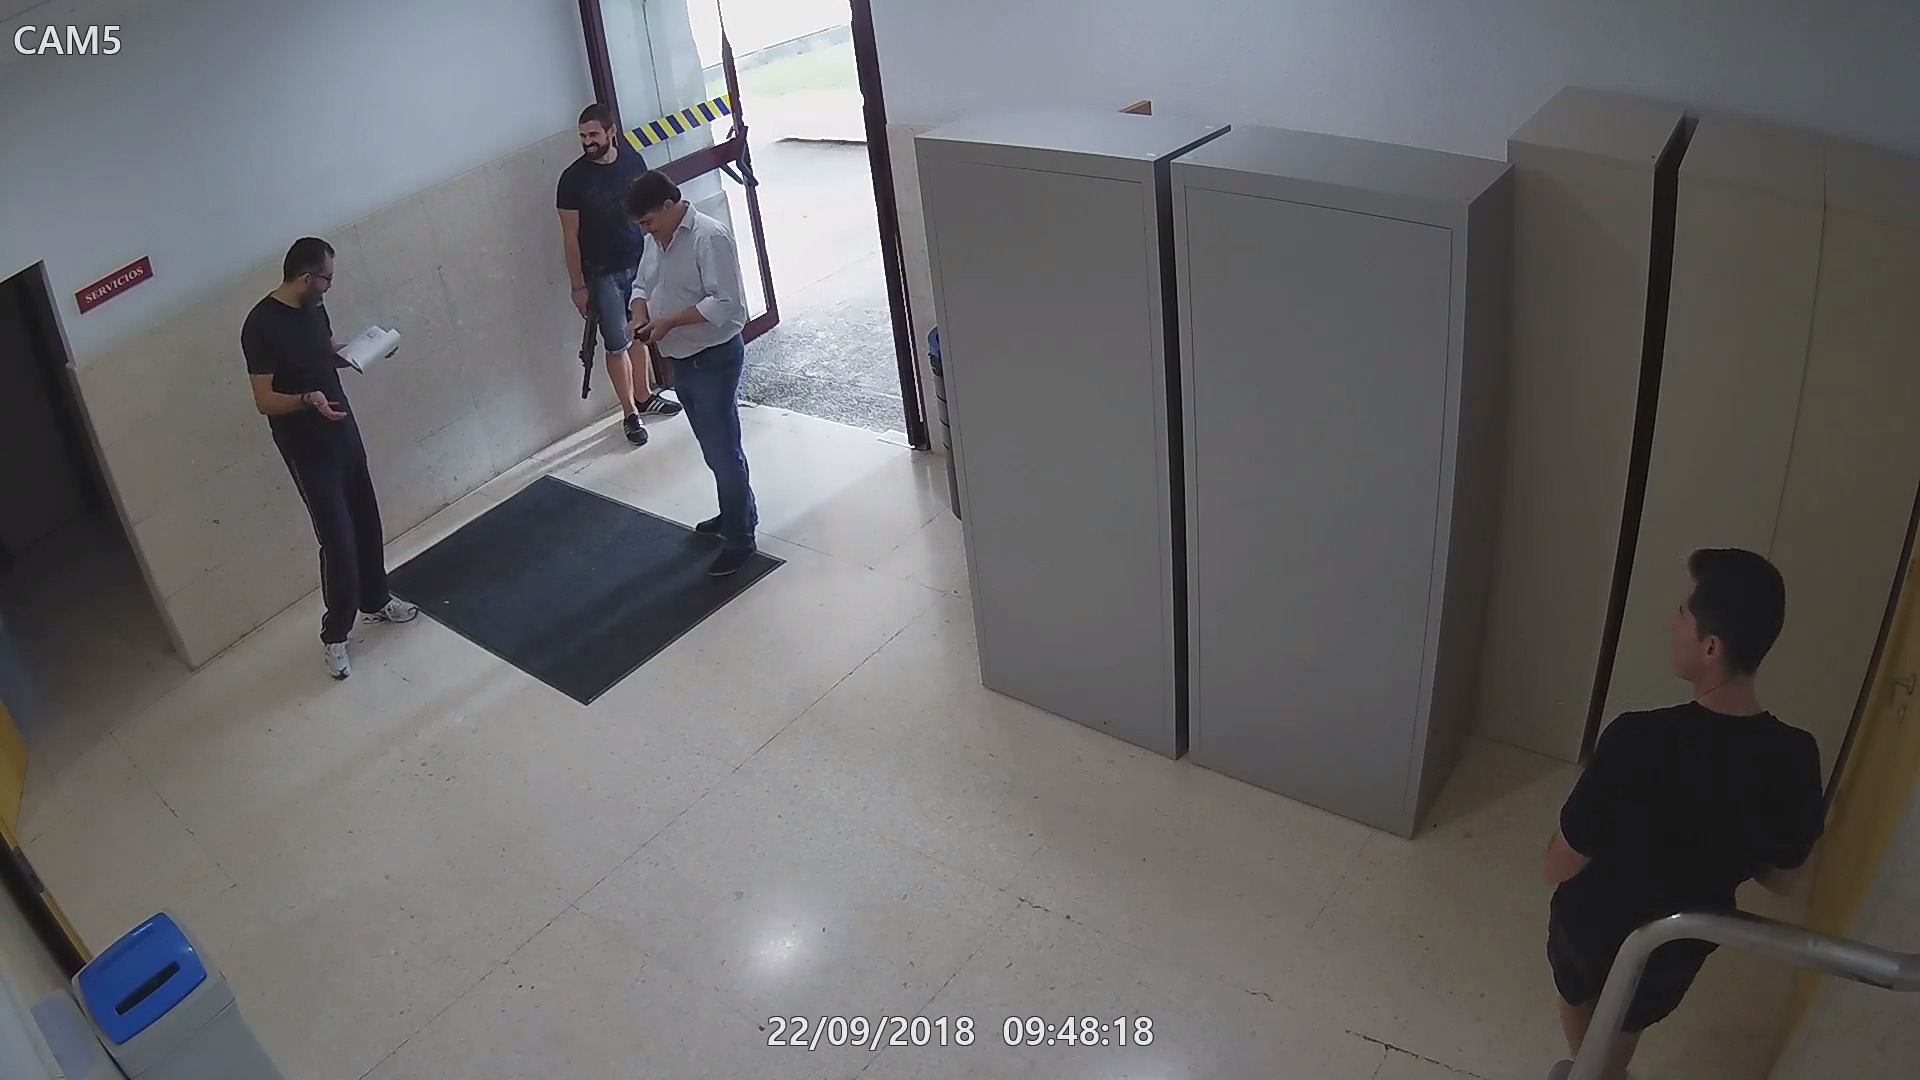pistol: (621, 318, 667, 349)
rifle: (574, 282, 600, 400)
